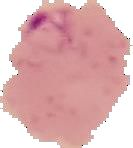parasitized: (23, 4, 81, 55)
